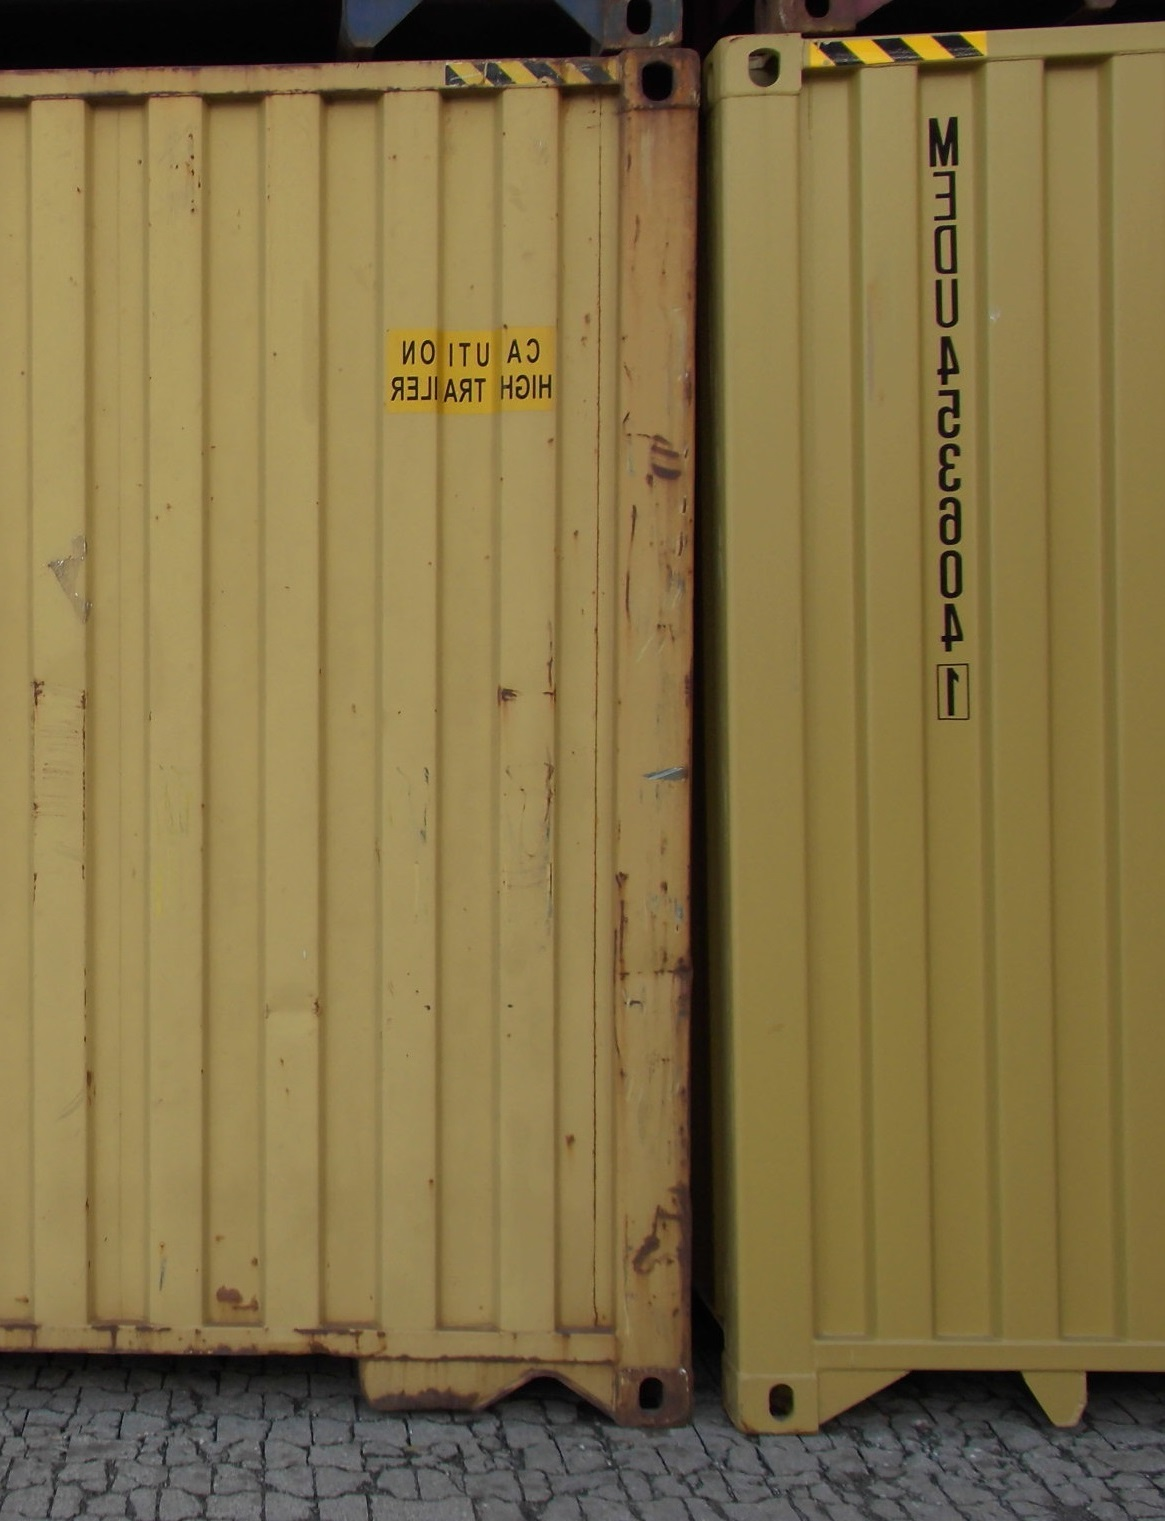container_no_door: (1, 53, 678, 1432), (729, 28, 1165, 1437)
